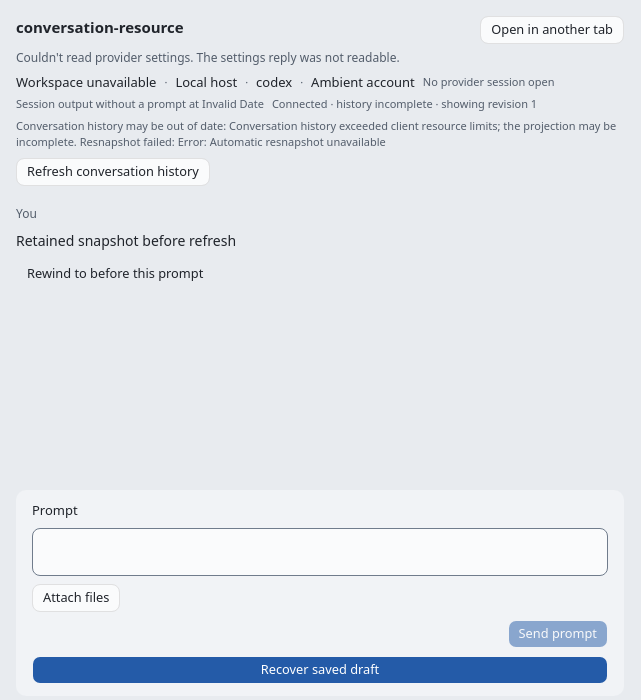
Scenario: keeps the admitted snapshot visible and offers a read-only refresh after resource recovery fails
The width and height of the screenshot is (641, 700).
expect the text "Retained snapshot before refresh" is shown: met, box [16,231,236,250]
expect the text "Conversation history may be out of date" is shown: met, box [16,118,229,133]
Click the button "Refresh conversation history" at (113,172), box [16,158,210,186]
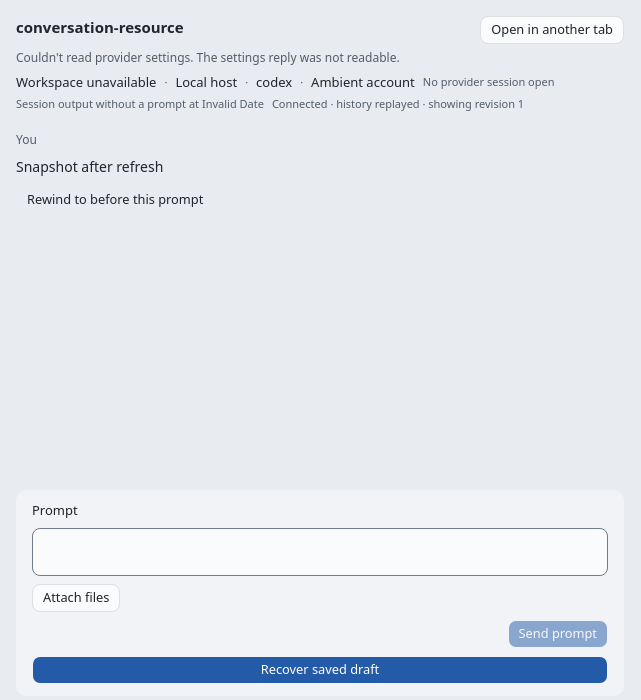
expect the text "Snapshot after refresh" is shown: met, box [16,157,163,176]
